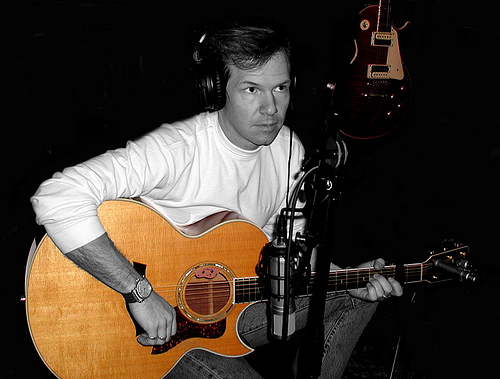guitar: (36, 206, 474, 379)
